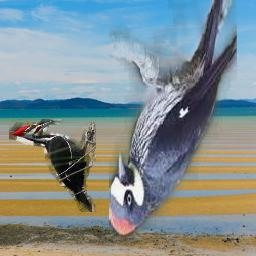Woodpecker: (109, 0, 237, 239), (10, 120, 97, 213)
